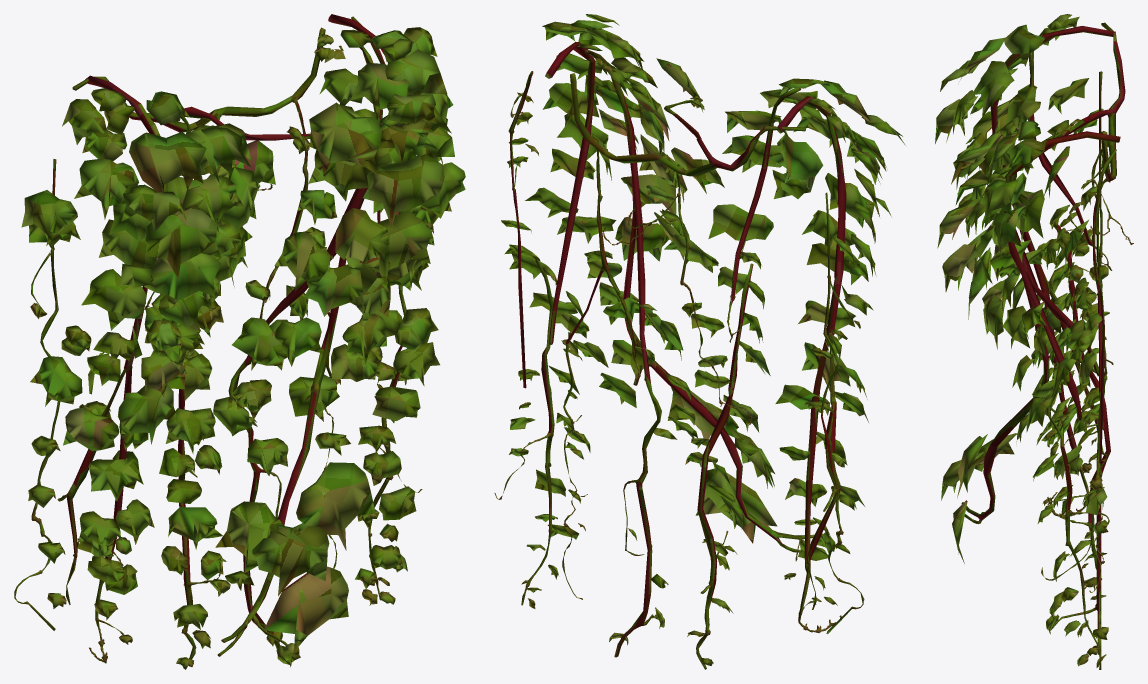
The model's file is vines-hanging.lod2.glb.
The picture shows the model from 3 angles, left to right: view 1: azimuth 30°, elevation 25°; view 2: azimuth 150°, elevation 25°; view 3: azimuth 270°, elevation 25°; orthographic projection. The views are drawn at different scales.
Visible parts, largest first — view 1: Object_4; view 2: Object_4; view 3: Object_4.
Boxes of the visible parts, bbox=[...] form: Object_4: bbox=[14, 14, 465, 669]; Object_4: bbox=[494, 14, 905, 669]; Object_4: bbox=[935, 14, 1133, 669].
Bounding box in the file's own units: 2.67 × 4 × 1.29.
1 material, 1 textured.
